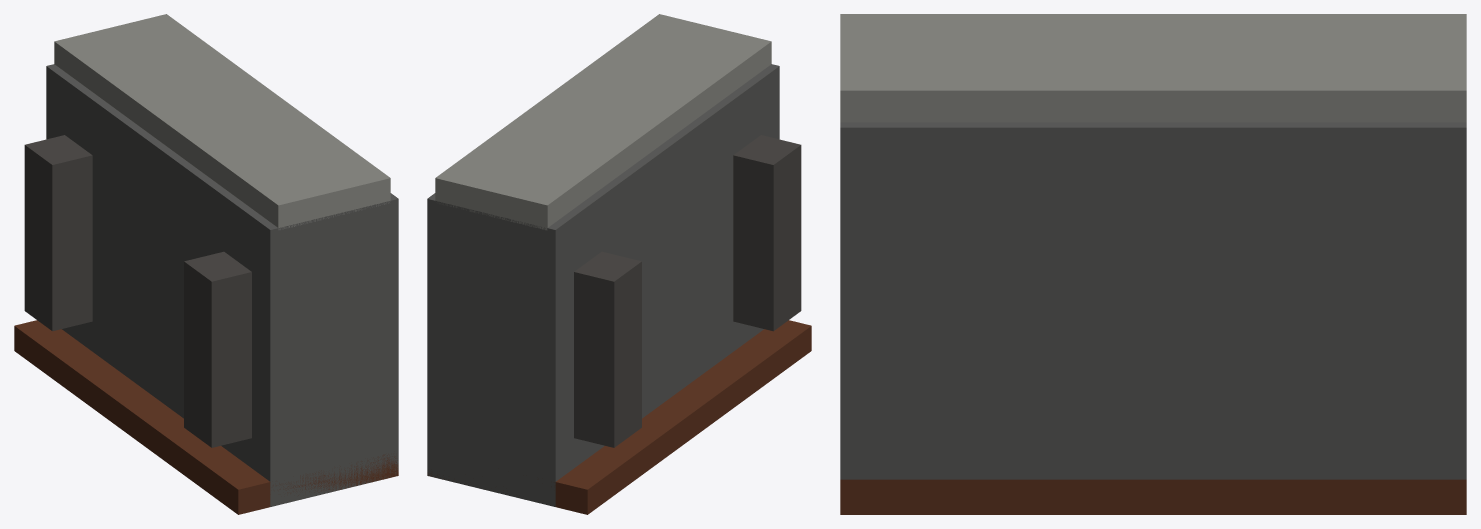
Rendered from bumper_front.glb.
3 views of the same model, side by side, from view 1: azimuth 30°, elevation 25°; view 2: azimuth 150°, elevation 25°; view 3: azimuth 270°, elevation 25° (orthographic). The views are drawn at different scales.
Parts seen in each view (by area): view 1: bumper_front; view 2: bumper_front; view 3: bumper_front.
Boxes of the visible parts, box(x1,y1,x2,y2) form: bumper_front: box(14, 14, 398, 514); bumper_front: box(427, 14, 811, 514); bumper_front: box(840, 14, 1466, 514).
Size of the model in its own units: 0.21 by 0.357 by 0.484.
